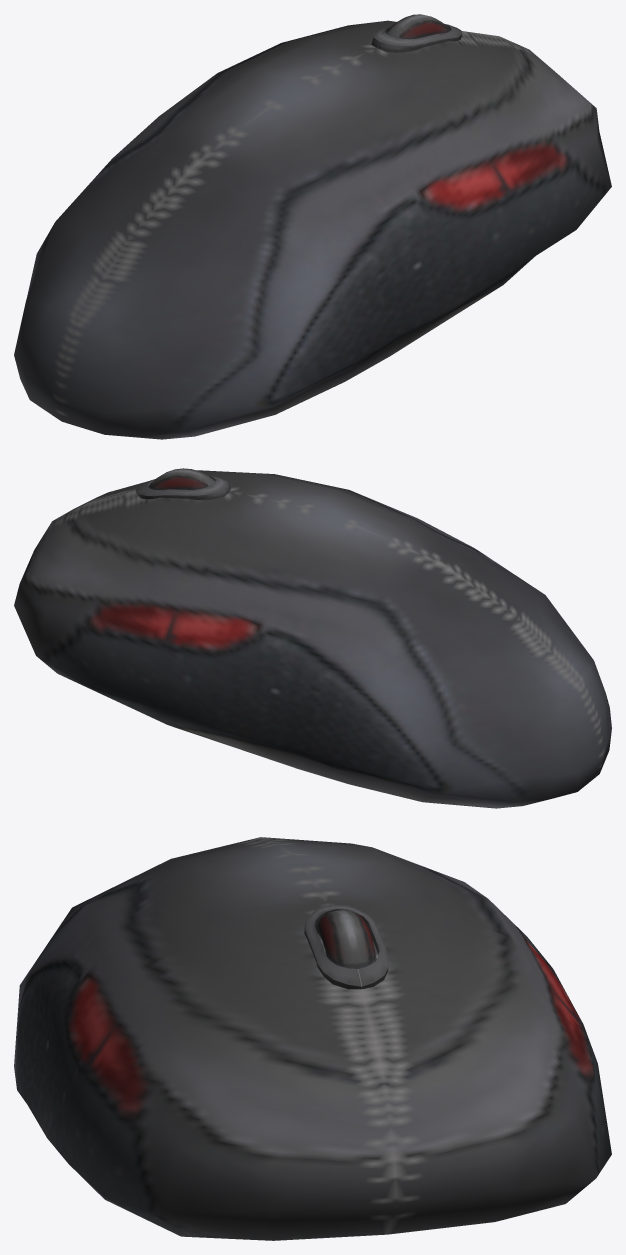
Rendered from BianLiDian_01_shubiao_01.FBX.
3 views of the same model, one above another, from view 1: azimuth 30°, elevation 25°; view 2: azimuth 150°, elevation 25°; view 3: azimuth 270°, elevation 25° (orthographic). The views are drawn at different scales.
Visible parts, largest first — view 1: BianLiDian_01_subiao_01; view 2: BianLiDian_01_subiao_01; view 3: BianLiDian_01_subiao_01.
Boxes of the visible parts, x1,y1,x2,y2 form: BianLiDian_01_subiao_01: (14, 14, 611, 439); BianLiDian_01_subiao_01: (14, 468, 611, 808); BianLiDian_01_subiao_01: (14, 837, 611, 1240).
Bounding box in the file's own units: 38.49 × 18.4 × 25.42.
